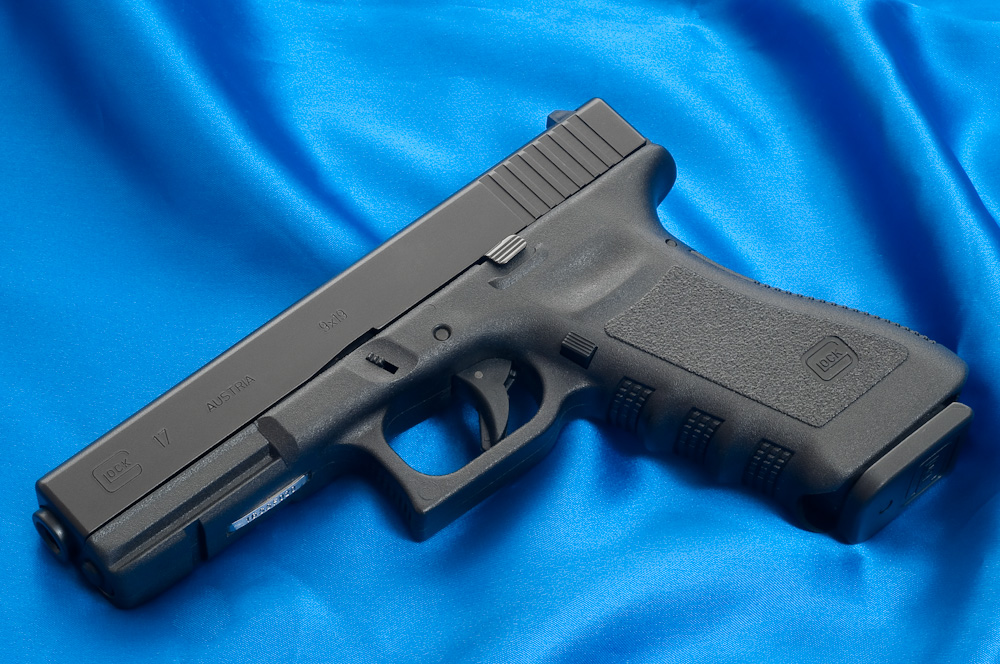Arma Real: (30, 89, 977, 612)
